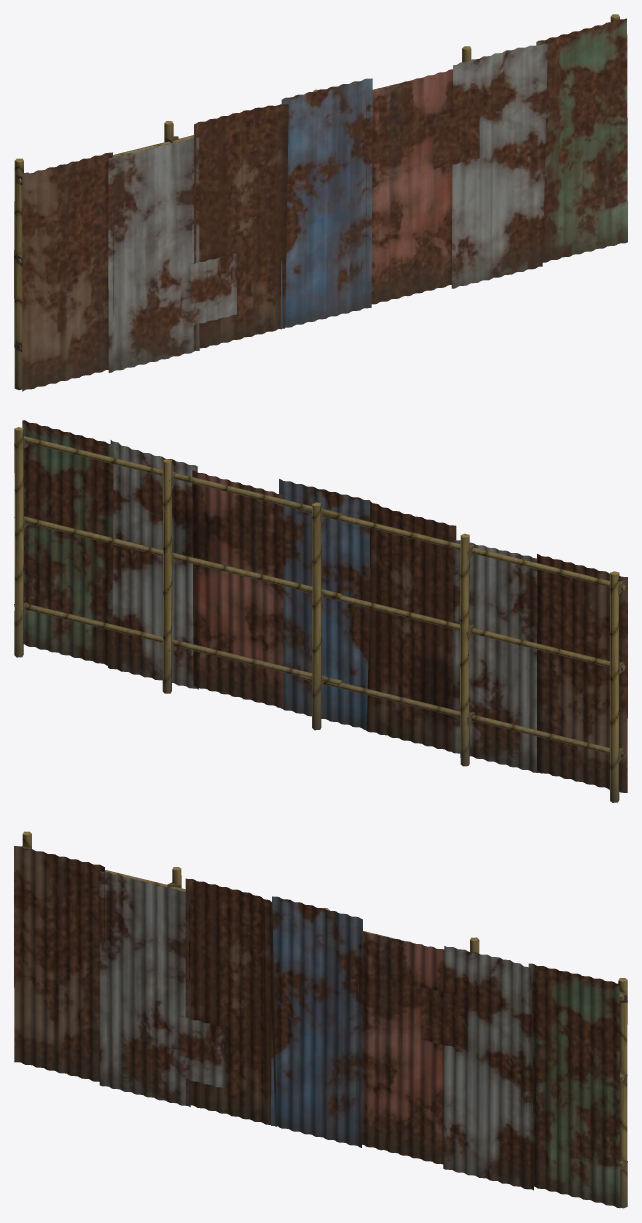
File: tin_hoarding.glb
3 views of the same model, one above another, from view 1: azimuth 30°, elevation 25°; view 2: azimuth 150°, elevation 25°; view 3: azimuth 330°, elevation 25° (orthographic).
Visible parts, largest first — view 1: body; view 2: body; view 3: body.
Boxes of the visible parts, x1,y1,x2,y2 form: body: (14, 14, 627, 391); body: (14, 420, 627, 802); body: (14, 831, 627, 1208).
Bounding box in the file's own units: 6.02 × 2.2 × 0.2567.
Materials: 1 (1 with a texture image).
